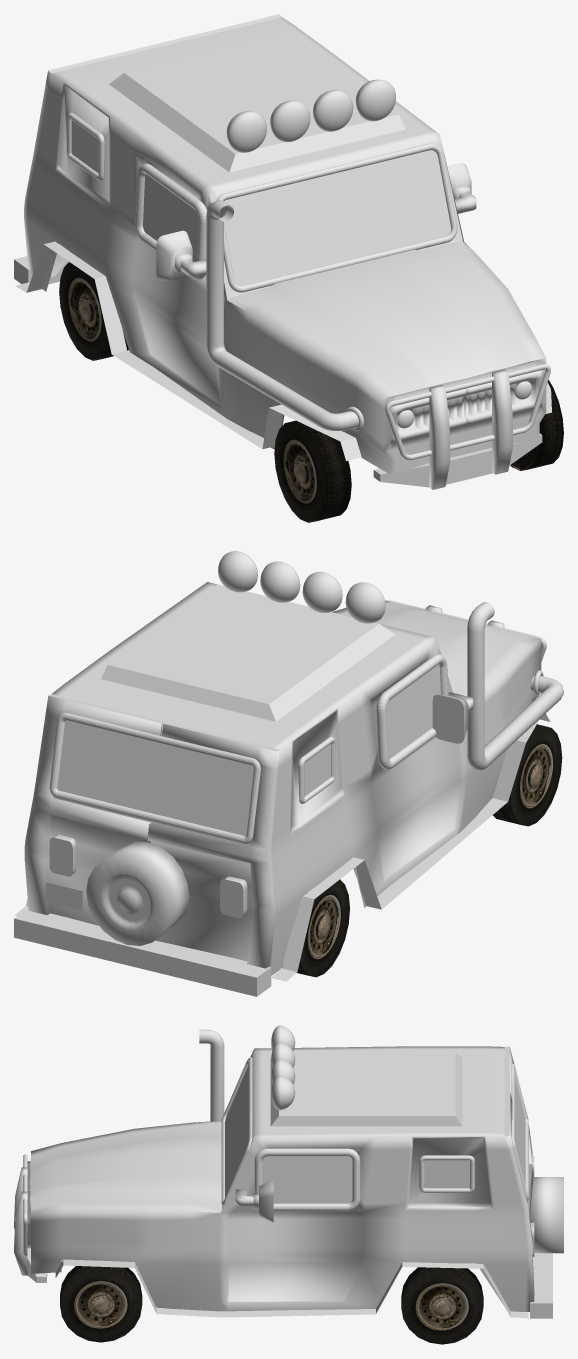
Rendered from Explorer 4X4 Vehicle.fbx.
3 renders of one model, top to bottom at view 1: azimuth 30°, elevation 25°; view 2: azimuth 150°, elevation 25°; view 3: azimuth 270°, elevation 25°, orthographic. The views are drawn at different scales.
Parts seen in each view (by area): view 1: Body, Wheel.Front.Left, Wheel.Rear.Right, Wheel.Front.Right; view 2: Body, Wheel.Step, Wheel.Front.Left, Wheel.Rear.Right; view 3: Body, Wheel.Rear.Left, Wheel.Front.Right, Wheel.Step.
Boxes of the visible parts, x1,y1,x2,y2 form: Body: (14,14,551,489); Wheel.Front.Left: (274,420,351,522); Wheel.Rear.Right: (59,262,128,360); Wheel.Front.Right: (510,380,563,470); Body: (14,551,563,996); Wheel.Step: (86,841,189,945); Wheel.Front.Left: (493,724,562,826); Wheel.Rear.Right: (282,879,349,977); Body: (14,1025,552,1318); Wheel.Rear.Left: (401,1267,483,1344); Wheel.Front.Right: (60,1266,142,1342); Wheel.Step: (530,1177,563,1253).
Bounding box in the file's own units: 916 × 874 × 1768.
